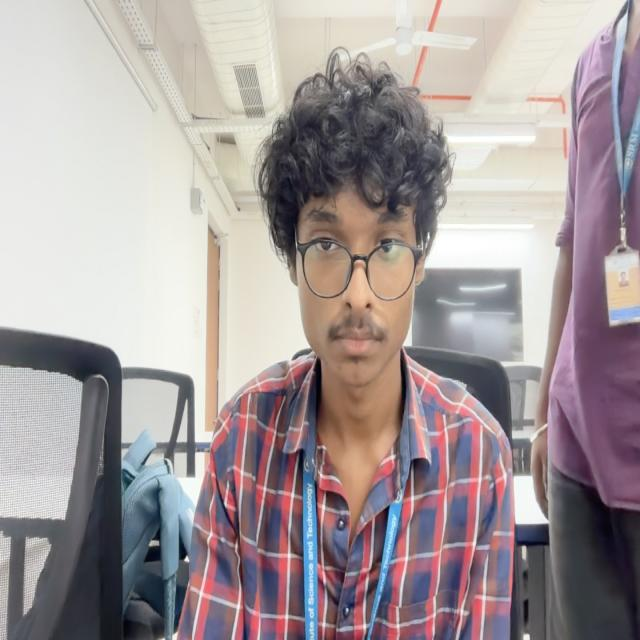darshan: (261, 66, 450, 392)
